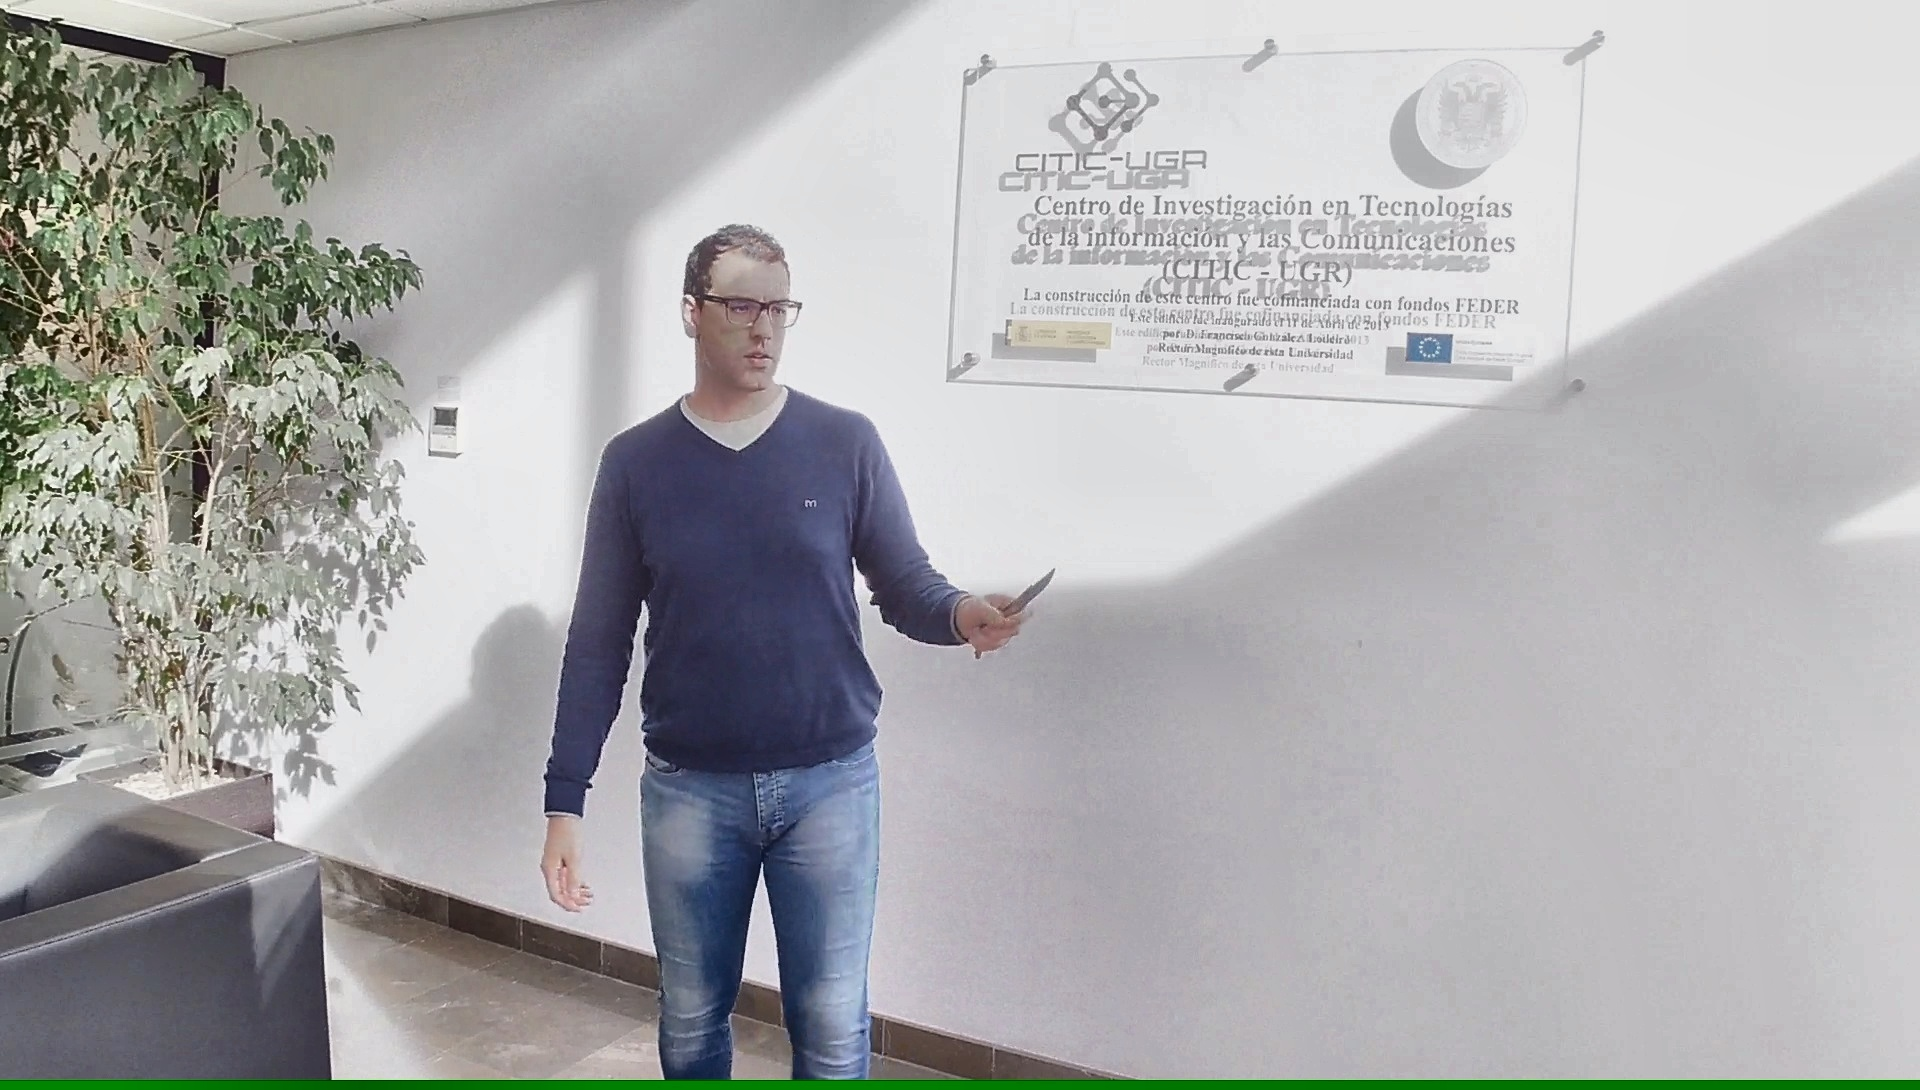knife: (965, 560, 1064, 670)
